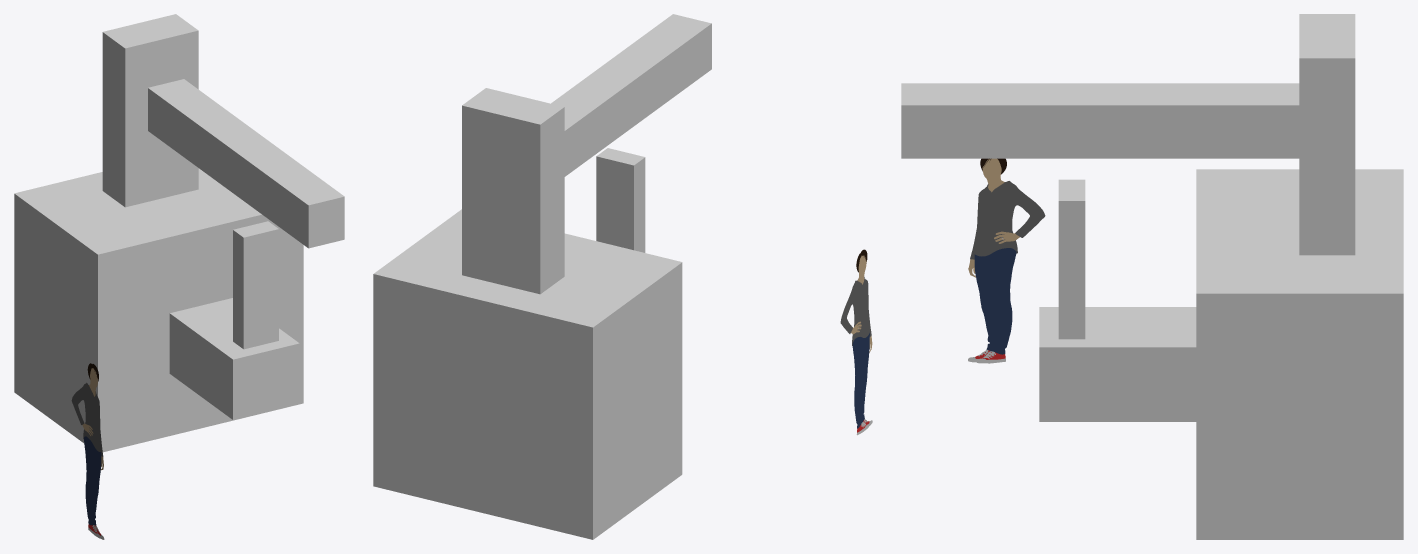
File: testModel.dae
3 renders of one model, left to right at view 1: azimuth 30°, elevation 25°; view 2: azimuth 150°, elevation 25°; view 3: azimuth 270°, elevation 25°, orthographic. The views are drawn at different scales.
Parts seen in each view (by area): view 1: SketchUp (×5), Stacy (×2); view 2: SketchUp (×4), Stacy (×2); view 3: SketchUp (×5), Stacy (×2).
Boxes of the visible parts, left/top/right/bottom form: SketchUp (×5): left=14, top=14, right=344, bottom=452; Stacy (×2): left=71, top=382, right=103, bottom=525; SketchUp (×4): left=373, top=14, right=711, bottom=539; Stacy (×2): left=840, top=277, right=871, bottom=428; SketchUp (×5): left=901, top=14, right=1403, bottom=539; Stacy (×2): left=970, top=181, right=1045, bottom=354.
Bounding box in the file's own units: 118 × 141 × 137.
